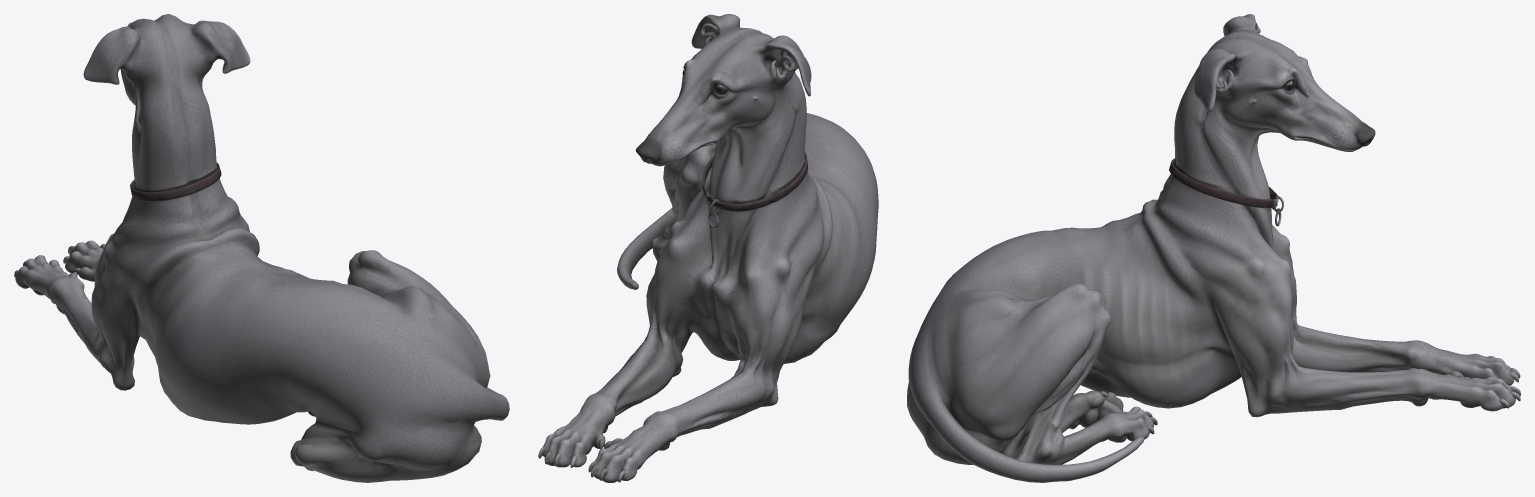
File: galgo-echado.glb
The picture shows the model from 3 angles, left to right: view 1: azimuth 30°, elevation 25°; view 2: azimuth 150°, elevation 25°; view 3: azimuth 270°, elevation 25°; orthographic projection. The views are drawn at different scales.
Parts seen in each view (by area): view 1: tripo_node_ac17572f-ef5a-48ba-b899-6ea5137d7053; view 2: tripo_node_ac17572f-ef5a-48ba-b899-6ea5137d7053; view 3: tripo_node_ac17572f-ef5a-48ba-b899-6ea5137d7053.
Part boxes in pixels (bbox=[...]): tripo_node_ac17572f-ef5a-48ba-b899-6ea5137d7053: bbox=[14, 14, 509, 482]; tripo_node_ac17572f-ef5a-48ba-b899-6ea5137d7053: bbox=[538, 14, 878, 482]; tripo_node_ac17572f-ef5a-48ba-b899-6ea5137d7053: bbox=[907, 14, 1520, 482].
Bounding box in the file's own units: 0.5327 × 0.6636 × 0.9995.
Materials: 1 (1 with a texture image).
